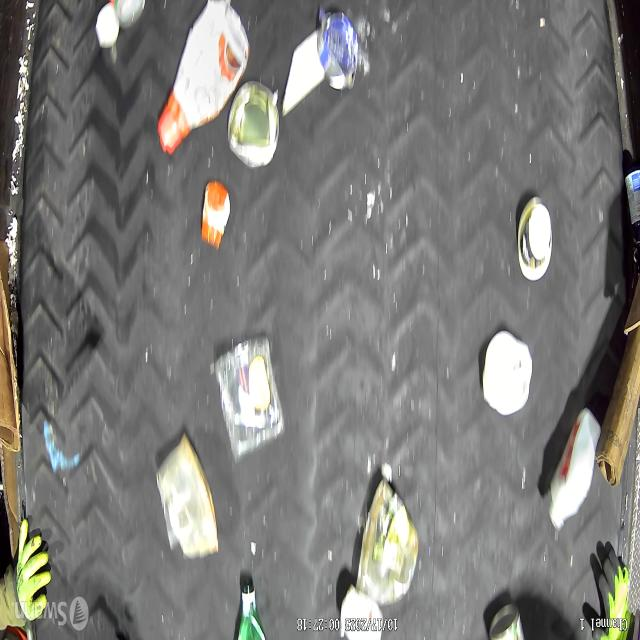can: (226, 78, 280, 170), (317, 11, 358, 90), (489, 603, 526, 640), (112, 1, 146, 30)
milk_jug: (550, 409, 602, 531)
non_white_jug: (158, 0, 251, 154)
